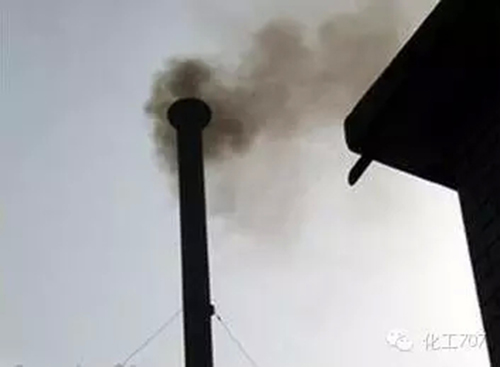dust: (141, 33, 287, 164)
